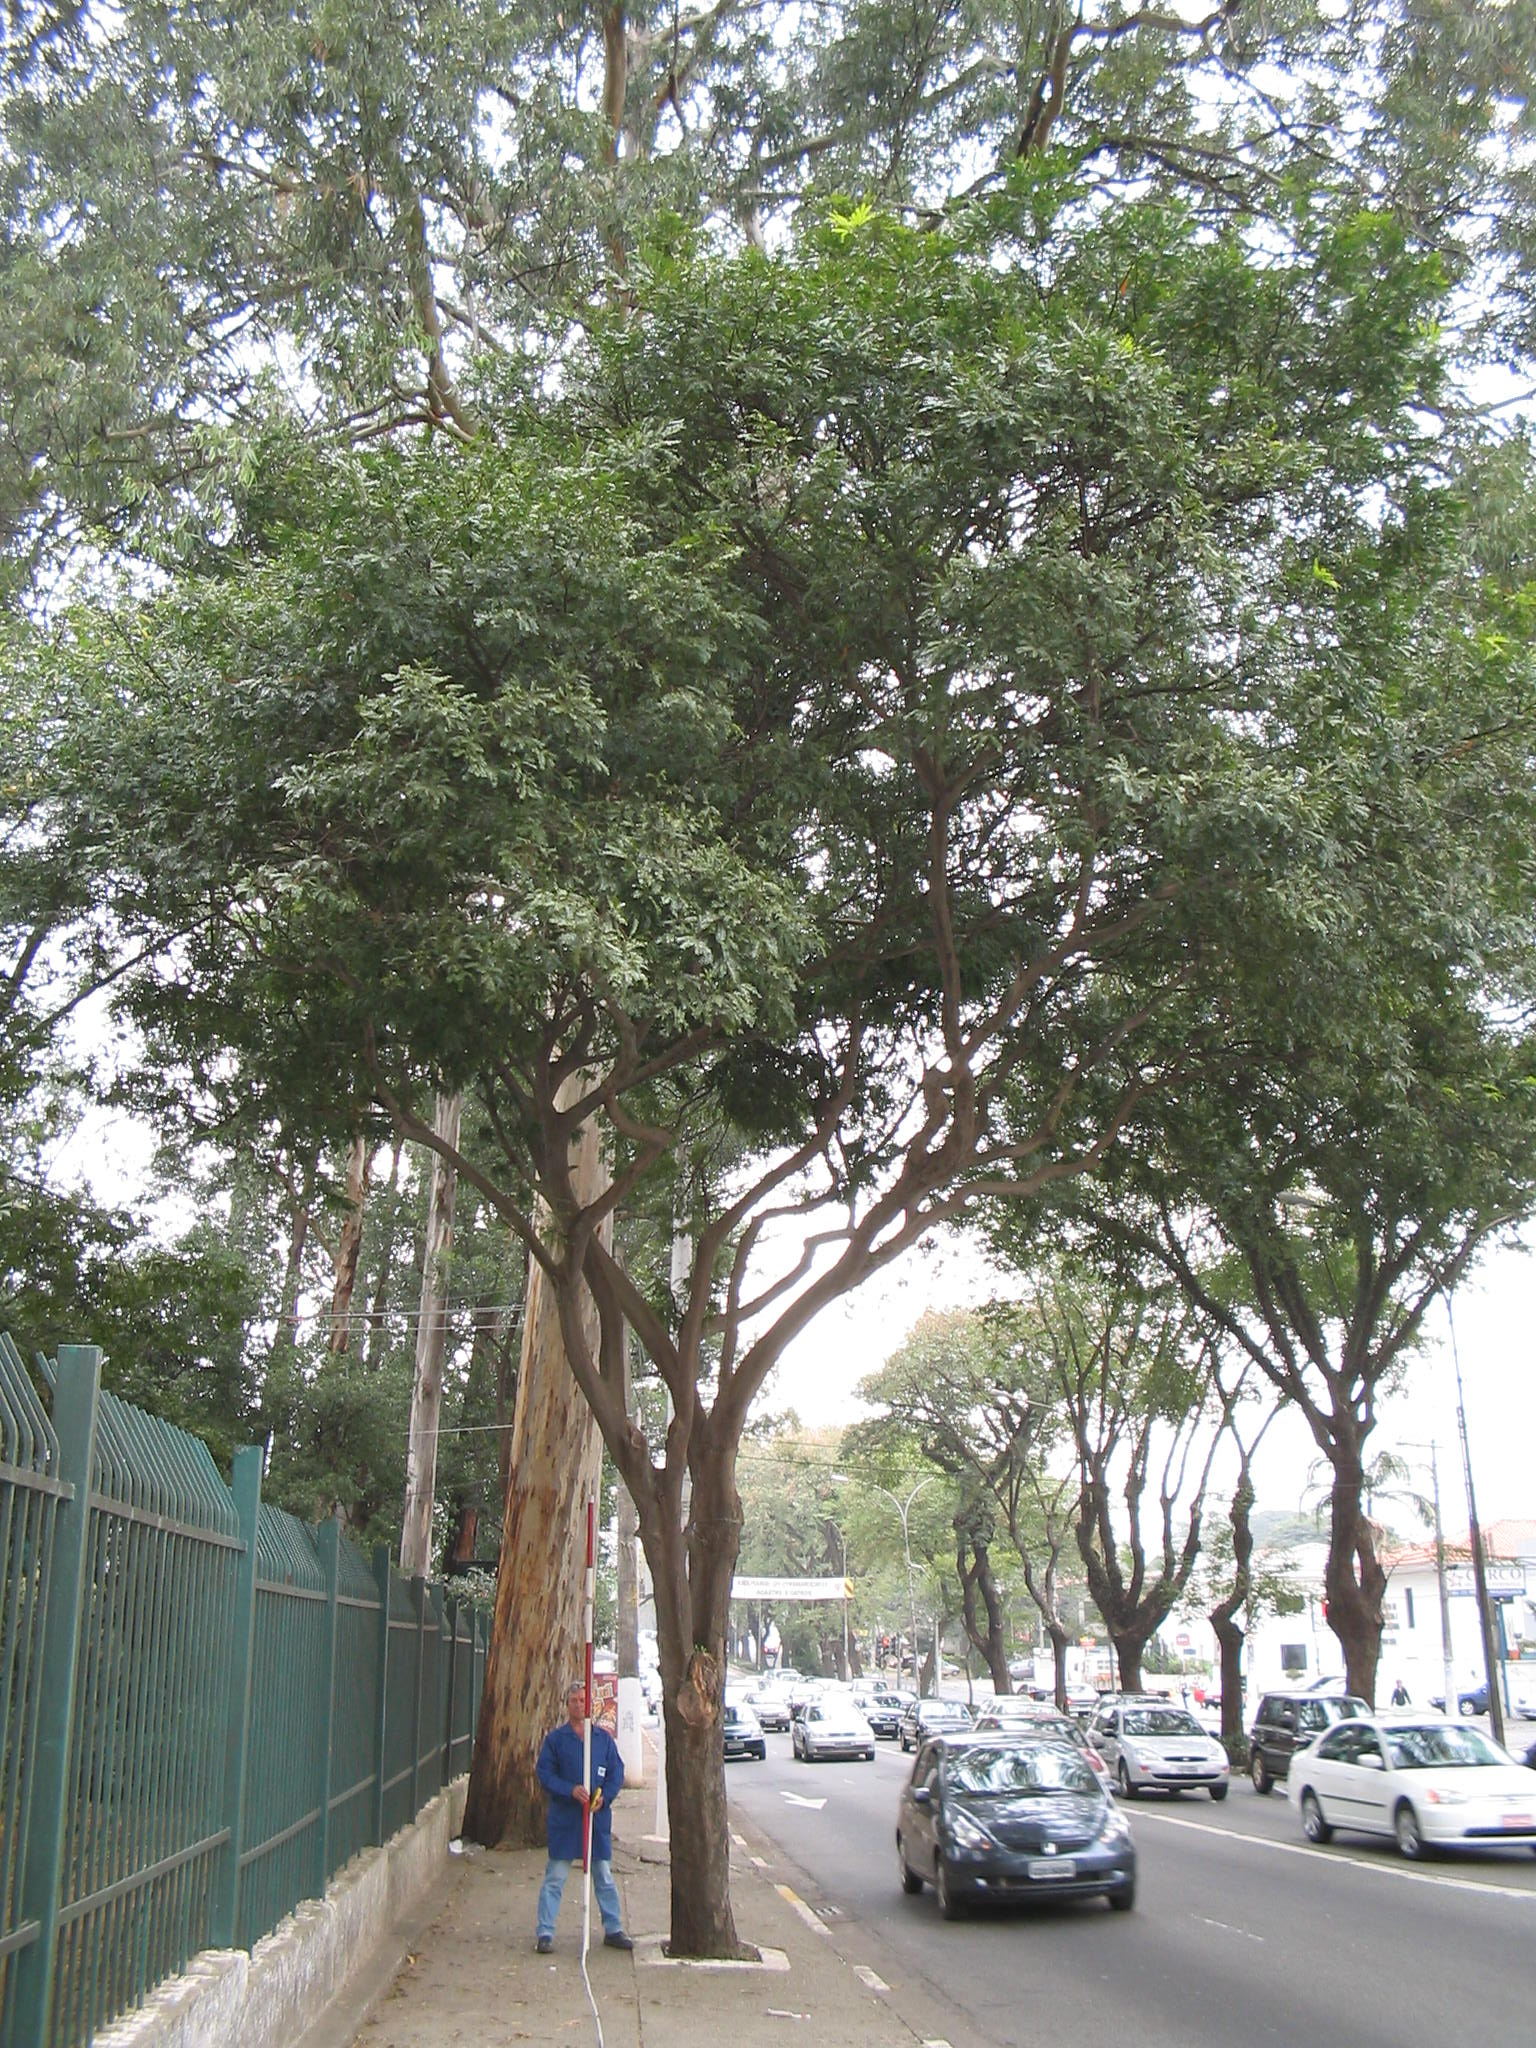crown: (90, 218, 1323, 1211), (1044, 474, 1515, 1317)
stem: (623, 1645, 802, 1961), (1310, 1616, 1399, 1750)
stick: (553, 1500, 624, 1950)
tree: (86, 208, 1333, 1966), (1031, 461, 1525, 1755)
